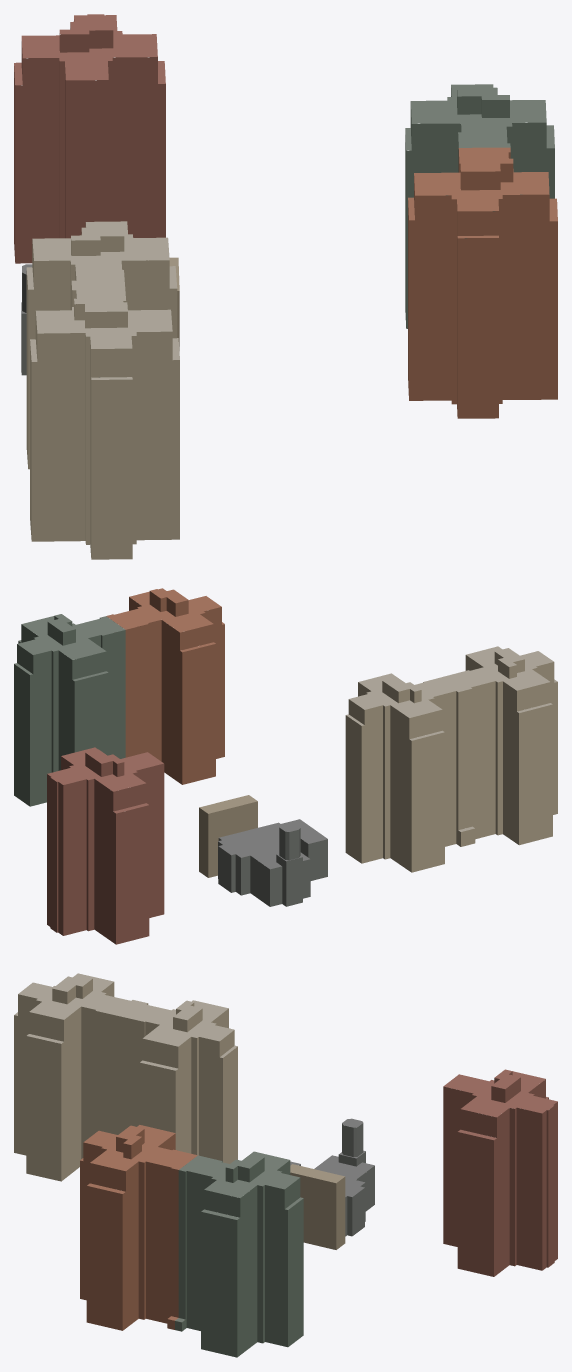
Rendered from tile--1_-11.glb.
3 renders of one model, top to bottom at view 1: azimuth 30°, elevation 25°; view 2: azimuth 150°, elevation 25°; view 3: azimuth 270°, elevation 25°, orthographic. The views are drawn at different scales.
Visible parts, largest first — view 1: wall, roof; view 2: wall, roof; view 3: wall, roof.
Part boxes in pixels (left/top/right/bottom): wall: left=14, top=19, right=557, bottom=559; roof: left=14, top=14, right=557, bottom=379; wall: left=14, top=591, right=557, bottom=944; roof: left=14, top=588, right=557, bottom=869; wall: left=14, top=979, right=557, bottom=1357; roof: left=14, top=973, right=557, bottom=1322.
Size of the model in its own units: 189 by 67.89 by 186.
